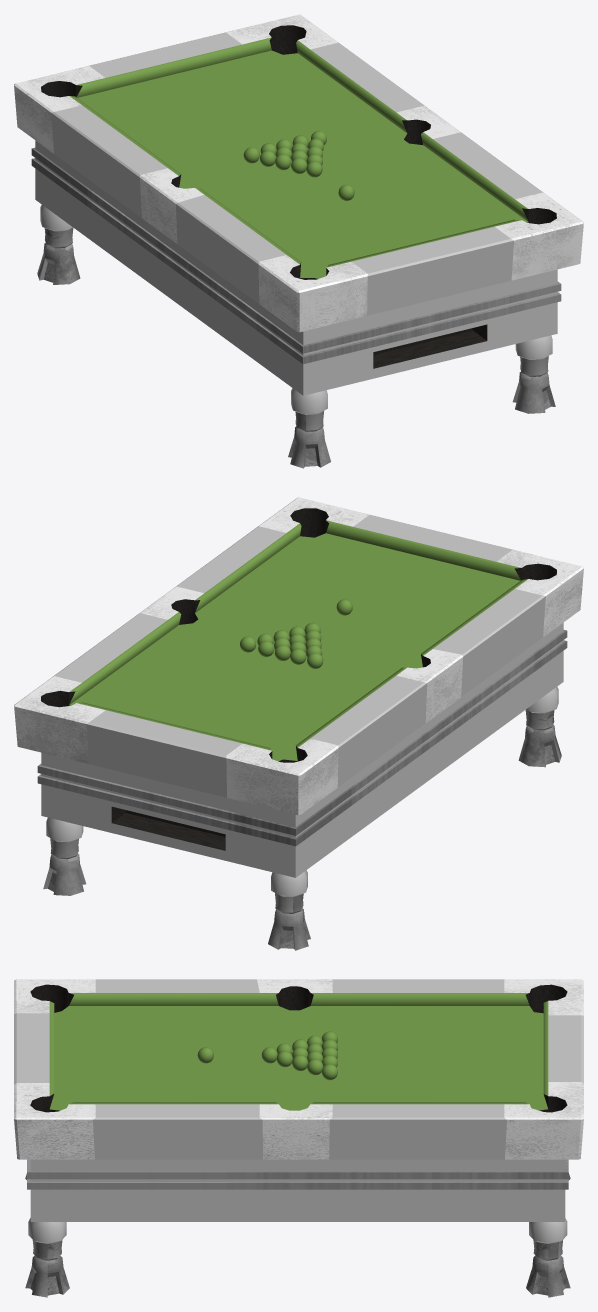
The model's file is Pool Table Green.fbx.
The picture shows the model from 3 angles, top to bottom: view 1: azimuth 30°, elevation 25°; view 2: azimuth 150°, elevation 25°; view 3: azimuth 270°, elevation 25°; orthographic projection.
Parts seen in each view (by area): view 1: Pool Table, Board; view 2: Pool Table, Board; view 3: Pool Table, Board.
Boxes of the visible parts, x1,y1,x2,y2 form: Pool Table: (14, 14, 583, 468); Board: (41, 25, 556, 279); Pool Table: (14, 497, 583, 950); Board: (41, 508, 556, 762); Pool Table: (14, 979, 583, 1297); Board: (30, 984, 567, 1112).
Size of the model in its own units: 118 by 73.88 by 203.
